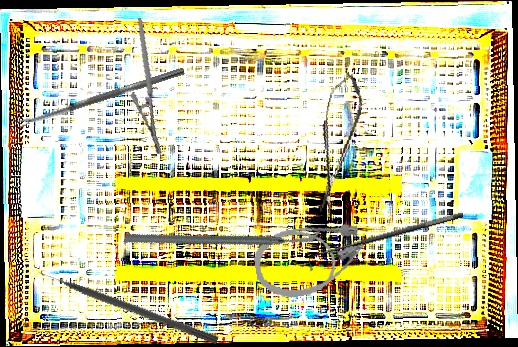Cannula: (250, 216, 385, 303)
Chopper: (122, 157, 323, 315)
Hook Surgical: (305, 209, 467, 272)
Micro Scissor: (303, 69, 370, 217)
Needle Holder: (113, 18, 187, 155)
Pusher: (36, 265, 220, 346)
Surgical Spoon: (17, 66, 186, 128)
